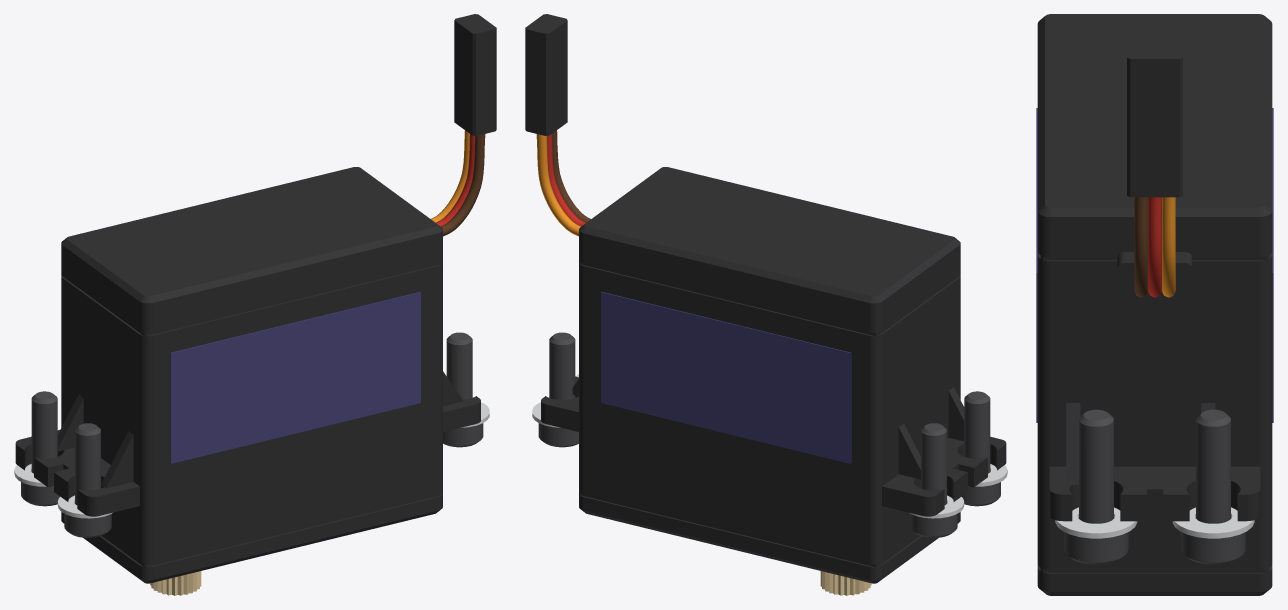
File: shoulder-servo.glb
The picture shows the model from 3 angles, left to right: view 1: azimuth 30°, elevation 25°; view 2: azimuth 150°, elevation 25°; view 3: azimuth 270°, elevation 25°; orthographic projection. The views are drawn at different scales.
Parts seen in each view (by area): view 1: shoulder-servo-body, shoulder-servo-hardware; view 2: shoulder-servo-body, shoulder-servo-hardware; view 3: shoulder-servo-body, shoulder-servo-hardware.
Part boxes in pixels (x1,y1,x2,y2): shoulder-servo-body: (15,14,496,583); shoulder-servo-hardware: (14,130,489,595); shoulder-servo-body: (525,14,1006,583); shoulder-servo-hardware: (532,130,1007,595); shoulder-servo-body: (1036,14,1273,595); shoulder-servo-hardware: (1055,197,1254,564).
Bounding box in the file's own units: 0.0596 × 0.0621 × 0.0202.
